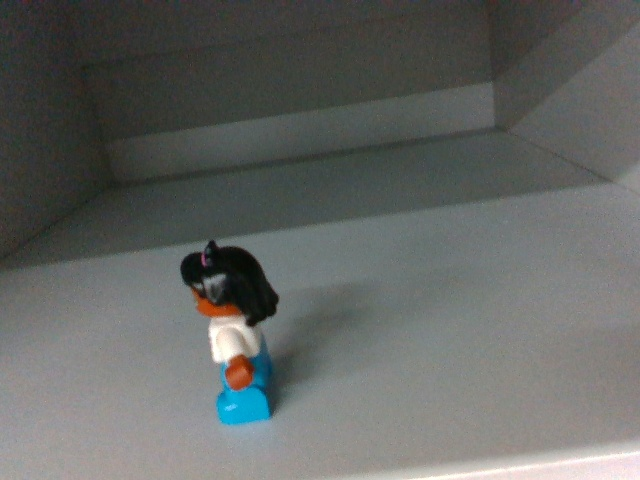people: (178, 236, 284, 428)
